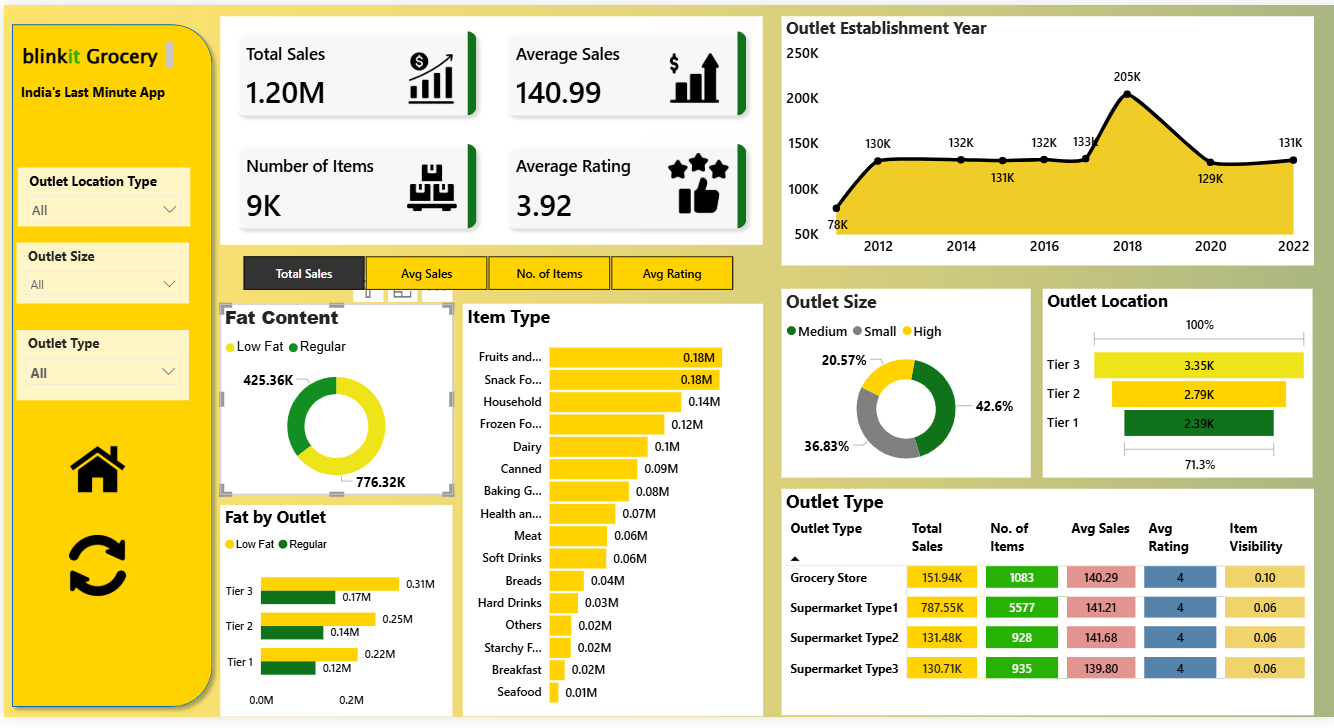

The dashboard page shown, as its layout file describes it:
{"tool":"powerbi","page":{"name":"Page 1","canvas":[1500,802],"ordinal":0},"visuals":[{"type":"shape","box":[0,12.7,243.7,787.3],"z":0},{"type":"textbox","box":[15.5,36.6,180.3,47.9],"z":1000},{"type":"cardVisual","fields":{"Data":["BlinkIT Grocery Data.Total Sales","BlinkIT Grocery Data.Average Sales","BlinkIT Grocery Data.Number of Items","BlinkIT Grocery Data.Average Rating"]},"box":[243.7,12.7,611.3,257.7],"z":2000},{"type":"donutChart","title":"Fat Content","fields":{"Y":["BlinkIT Grocery Data.Total Sales"],"Category":["BlinkIT Grocery Data.Item Fat Content"]},"box":[243.7,336.6,262,215.5],"z":3000},{"type":"clusteredBarChart","title":"Fat by Outlet ","fields":{"Series":["BlinkIT Grocery Data.Item Fat Content"],"Y":["BlinkIT Grocery Data.Total Sales"],"Category":["BlinkIT Grocery Data.Outlet Location Type"]},"box":[243.7,563.4,262,238],"z":4000},{"type":"barChart","title":"Item Type","fields":{"Category":["BlinkIT Grocery Data.Item Type"],"Y":["BlinkIT Grocery Data.Total Sales"]},"box":[516.9,336.6,338,464.8],"z":5000},{"type":"donutChart","title":"Outlet Size","fields":{"Category":["BlinkIT Grocery Data.Outlet Size"],"Y":["CountNonNull(BlinkIT Grocery Data.Outlet Type)"]},"box":[875.4,320.3,281.2,213],"z":6000},{"type":"slicer","fields":{"Values":["BlinkIT Grocery Data.Outlet Location Type"]},"box":[15.5,183.1,194.4,66.2],"z":7000},{"type":"slicer","fields":{"Values":["BlinkIT Grocery Data.Outlet Size"]},"box":[14.7,268.1,193,68.4],"z":8000},{"type":"slicer","fields":{"Values":["BlinkIT Grocery Data.Outlet Type"]},"box":[14.7,366,193,75.1],"z":9000},{"type":"funnel","title":"Outlet Location ","fields":{"Category":["BlinkIT Grocery Data.Outlet Location Type"],"Y":["CountNonNull(BlinkIT Grocery Data.Outlet Location Type)"]},"box":[1171,320.3,304.3,213],"z":10000},{"type":"areaChart","title":"Outlet Establishment Year","fields":{"Category":["BlinkIT Grocery Data.Outlet Establishment Year"],"Y":["BlinkIT Grocery Data.Total Sales"]},"box":[875.4,13,600,281.2],"z":11000},{"type":"pivotTable","title":"Outlet Type","fields":{"Rows":["BlinkIT Grocery Data.Outlet Type"],"Values":["BlinkIT Grocery Data.Total Sales","BlinkIT Grocery Data.Number of Items","BlinkIT Grocery Data.Average Sales","BlinkIT Grocery Data.Average Rating","Avg(BlinkIT Grocery Data.Item Visibility)"]},"box":[875.4,544.9,600,255.1],"z":12000},{"type":"slicer","fields":{"Values":["Matrix.Matrix"]},"box":[243.7,276.1,601.4,52.1],"z":13000},{"type":"image","box":[53.5,477.5,104.2,91.5],"z":13001},{"type":"image","box":[732.4,47.9,91.5,69],"z":13002},{"type":"image","box":[431,173.2,102.8,66.2],"z":13003},{"type":"image","box":[431,47.9,100,69],"z":13004},{"type":"image","box":[732.4,162,100,77.5],"z":13005},{"type":"image","box":[66.2,591.5,78.9,80.3],"z":13006},{"type":"textbox","box":[14.1,83.1,181.7,33.8],"z":13007}]}

Visuals, with their boxes in screenshot pixels (x1, y1, x2, y2), scaled from the page's 1500x802 canvas onto the 1334x728 screenshot:
shape: region(0, 12, 217, 726)
textbox: region(14, 33, 174, 77)
cardVisual - BlinkIT Grocery Data.Total Sales x BlinkIT Grocery Data.Average Sales: region(217, 12, 760, 245)
"Fat Content" donutChart: region(217, 306, 450, 501)
"Fat by Outlet " clusteredBarChart: region(217, 511, 450, 727)
"Item Type" barChart: region(460, 306, 760, 727)
"Outlet Size" donutChart: region(779, 291, 1029, 484)
slicer - BlinkIT Grocery Data.Outlet Location Type: region(14, 166, 187, 226)
slicer - BlinkIT Grocery Data.Outlet Size: region(13, 243, 185, 305)
slicer - BlinkIT Grocery Data.Outlet Type: region(13, 332, 185, 400)
"Outlet Location " funnel: region(1041, 291, 1312, 484)
"Outlet Establishment Year" areaChart: region(779, 12, 1312, 267)
"Outlet Type" pivotTable: region(779, 495, 1312, 726)
slicer - Matrix.Matrix: region(217, 251, 752, 298)
image: region(48, 433, 140, 516)
image: region(651, 43, 733, 106)
image: region(383, 157, 475, 217)
image: region(383, 43, 472, 106)
image: region(651, 147, 740, 217)
image: region(59, 537, 129, 610)
textbox: region(13, 75, 174, 106)
